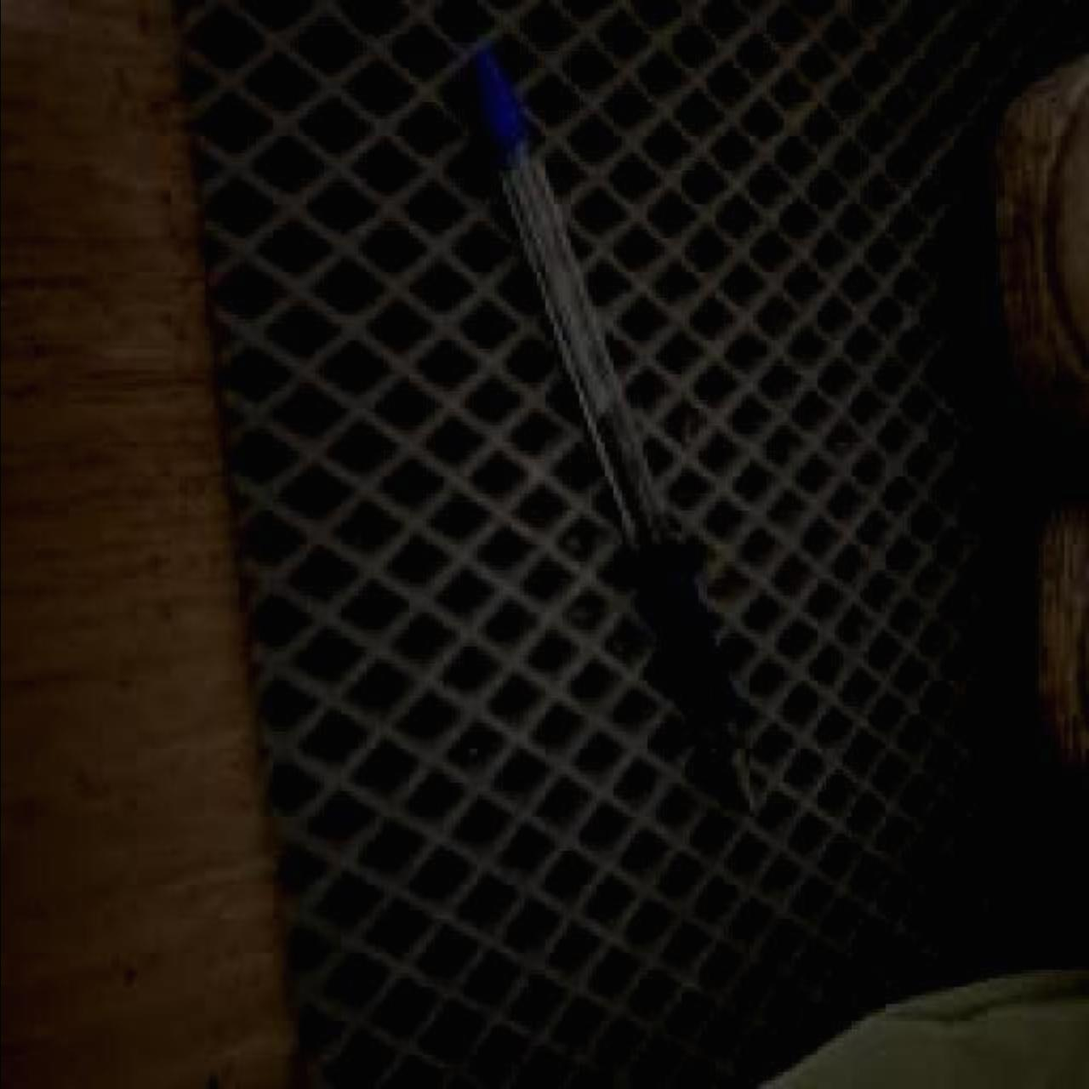pen: (466, 51, 761, 830)
